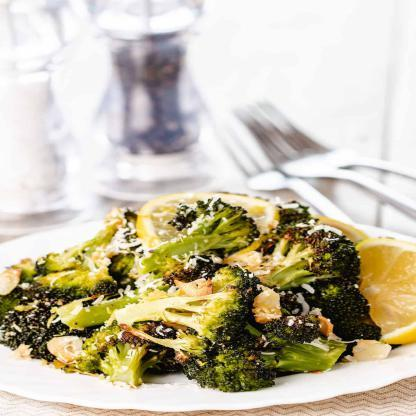broccoli: (0, 187, 416, 391)
